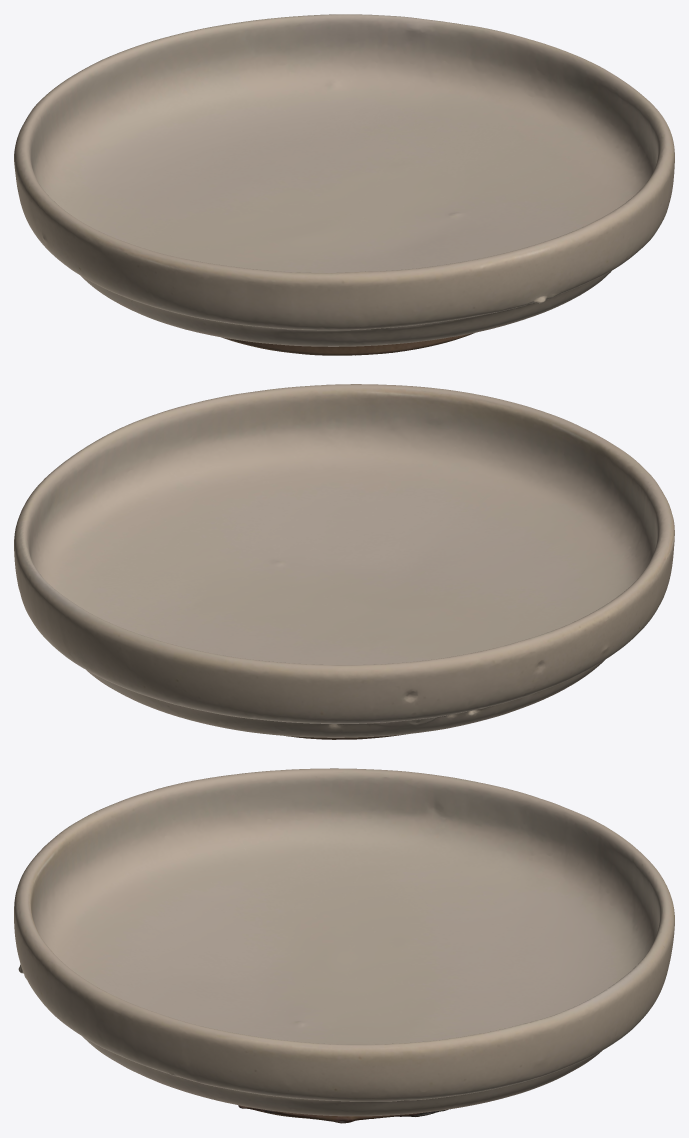
File: white_ceramic_serving_bowl.glb
3 renders of one model, top to bottom at view 1: azimuth 30°, elevation 25°; view 2: azimuth 150°, elevation 25°; view 3: azimuth 270°, elevation 25°, orthographic.
Parts seen in each view (by area): view 1: A_White_Ceramic_Serving_Bowl; view 2: A_White_Ceramic_Serving_Bowl; view 3: A_White_Ceramic_Serving_Bowl.
Part boxes in pixels (x1,y1,x2,y2): A_White_Ceramic_Serving_Bowl: (14,14,674,355); A_White_Ceramic_Serving_Bowl: (14,384,674,739); A_White_Ceramic_Serving_Bowl: (14,768,674,1123).
Size of the model in its own units: 1 by 0.2495 by 0.9987.
Materials: 1 (1 with a texture image).
